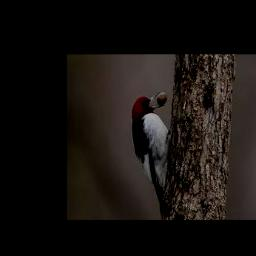Woodpecker: (132, 91, 170, 217)
